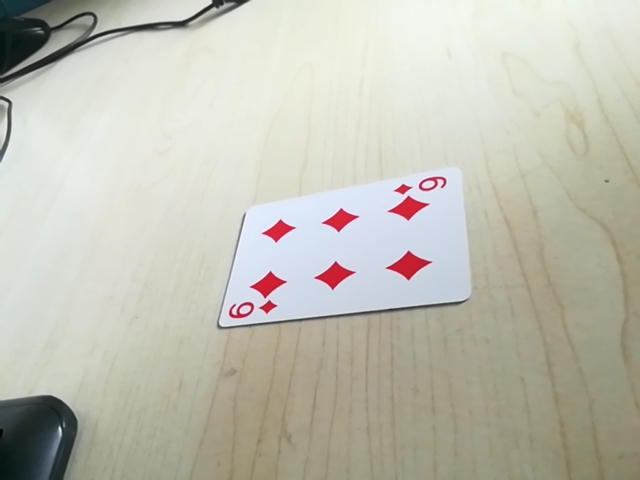fk 6: (392, 170, 452, 198), (224, 297, 282, 324)
